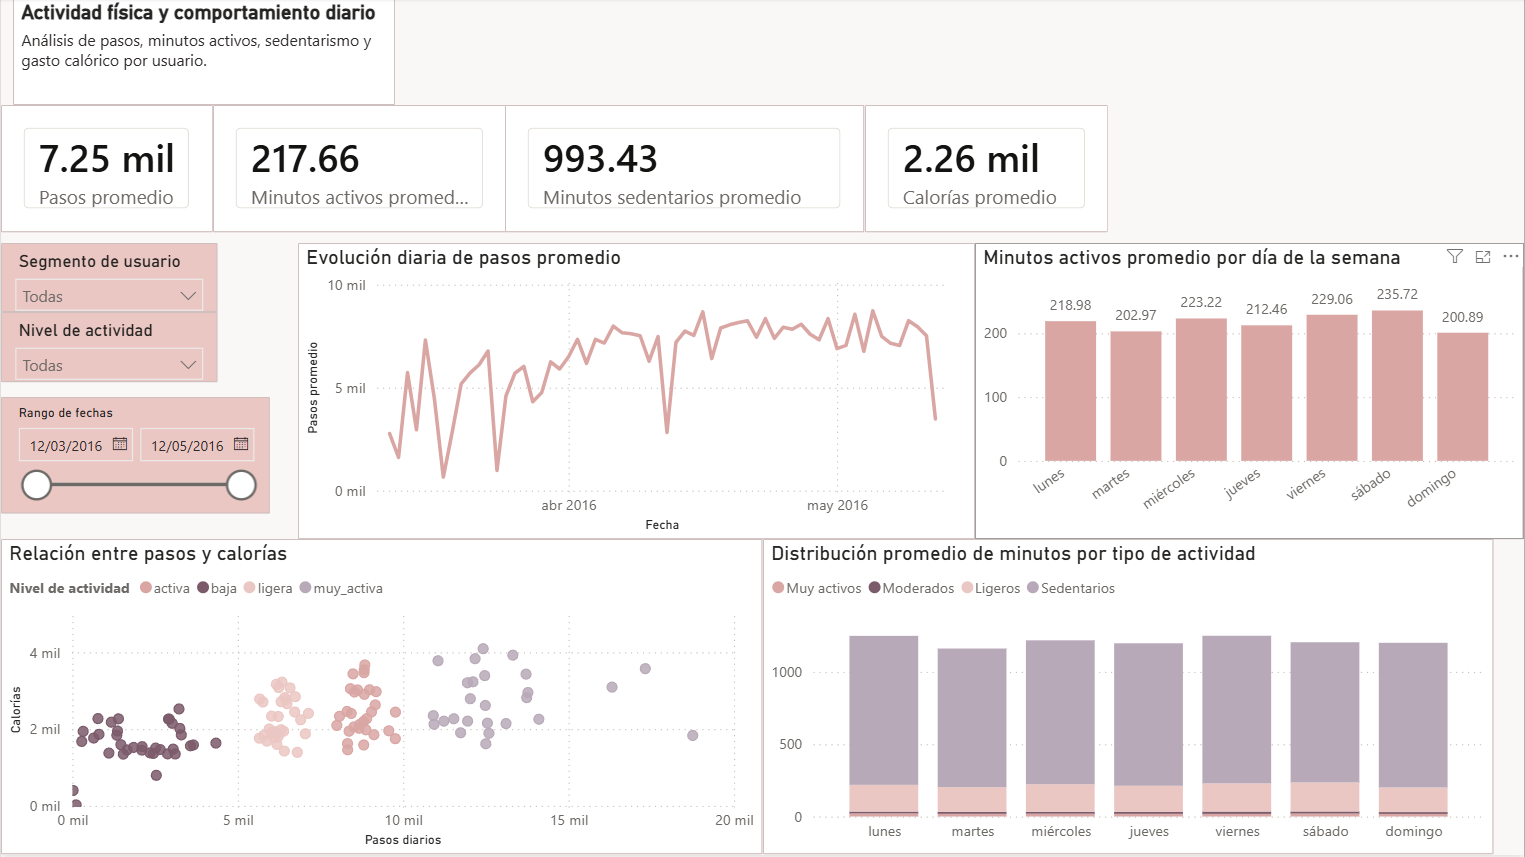

This screenshot's page, from the dashboard's own definition file:
{"tool":"powerbi","page":{"name":"Actividad","canvas":[1280,720],"ordinal":1},"visuals":[{"type":"textbox","title":"Actividad física y comportamiento diario","box":[10.3,0,321.1,89.6],"z":1000},{"type":"cardVisual","fields":{"Data":["Medidas.Calorías promedio"]},"box":[726,89.6,204.3,106.5],"z":4000},{"type":"cardVisual","fields":{"Data":["Medidas.Pasos promedio"]},"box":[0,89.6,177.8,106.5],"z":5000},{"type":"cardVisual","fields":{"Data":["Medidas.Minutos activos promedio"]},"box":[177.8,89.6,246.2,106.5],"z":6000},{"type":"cardVisual","fields":{"Data":["Medidas.Minutos sedentarios promedio"]},"box":[424,89.6,302,106.5],"z":7000},{"type":"slicer","fields":{"Values":["bellabeat_analysis_dataset.activity_date"]},"box":[0,335.1,225.6,98.5],"z":9000},{"type":"slicer","fields":{"Values":["bellabeat_analysis_dataset.activity_level"]},"box":[0,263.7,181.9,58.5],"z":10000},{"type":"slicer","fields":{"Values":["user_segments.user_segment"]},"box":[0,206,181.9,57.7],"z":11000},{"type":"lineChart","title":"Evolución diaria de pasos promedio","fields":{"Category":["bellabeat_analysis_dataset.activity_date"],"Y":["Medidas.Pasos promedio"]},"box":[249.8,205.7,568.7,249.1],"z":11001},{"type":"clusteredColumnChart","title":"Minutos activos promedio por día de la semana","fields":{"Category":["bellabeat_analysis_dataset.day_of_week"],"Y":["Medidas.Minutos activos promedio"]},"box":[818.6,205.7,461.4,249.1],"z":11002},{"type":"scatterChart","title":"Relación entre pasos y calorías","fields":{"Category":["bellabeat_analysis_dataset.user_id"],"Series":["bellabeat_analysis_dataset.activity_level"],"X":["Avg(bellabeat_analysis_dataset.total_steps)"],"Y":["Avg(bellabeat_analysis_dataset.calories)"]},"box":[0,454.8,640,265.3],"z":11003},{"type":"columnChart","title":"Distribución promedio de minutos por tipo de actividad","fields":{"Category":["bellabeat_analysis_dataset.day_of_week"],"Y":["Avg(bellabeat_analysis_dataset.very_active_minutes)","Avg(bellabeat_analysis_dataset.fairly_active_minutes)","Avg(bellabeat_analysis_dataset.lightly_active_minutes)","Avg(bellabeat_analysis_dataset.sedentary_minutes)"]},"box":[640,454.8,613.5,265.3],"z":11004}]}

Visuals, with their boxes in screenshot pixels (x1, y1, x2, y2), scaled from the page's 1280x720 canvas onto the 1525x857 screenshot:
"Actividad física y comportamiento diario" textbox: bbox=(12, 0, 395, 107)
cardVisual - Medidas.Calorías promedio: bbox=(865, 107, 1108, 233)
cardVisual - Medidas.Pasos promedio: bbox=(0, 107, 212, 233)
cardVisual - Medidas.Minutos activos promedio: bbox=(212, 107, 505, 233)
cardVisual - Medidas.Minutos sedentarios promedio: bbox=(505, 107, 865, 233)
slicer - bellabeat_analysis_dataset.activity_date: bbox=(0, 399, 269, 516)
slicer - bellabeat_analysis_dataset.activity_level: bbox=(0, 314, 217, 384)
slicer - user_segments.user_segment: bbox=(0, 245, 217, 314)
"Evolución diaria de pasos promedio" lineChart: bbox=(298, 245, 975, 541)
"Minutos activos promedio por día de la semana" clusteredColumnChart: bbox=(975, 245, 1524, 541)
"Relación entre pasos y calorías" scatterChart: bbox=(0, 541, 762, 856)
"Distribución promedio de minutos por tipo de actividad" columnChart: bbox=(762, 541, 1493, 856)
